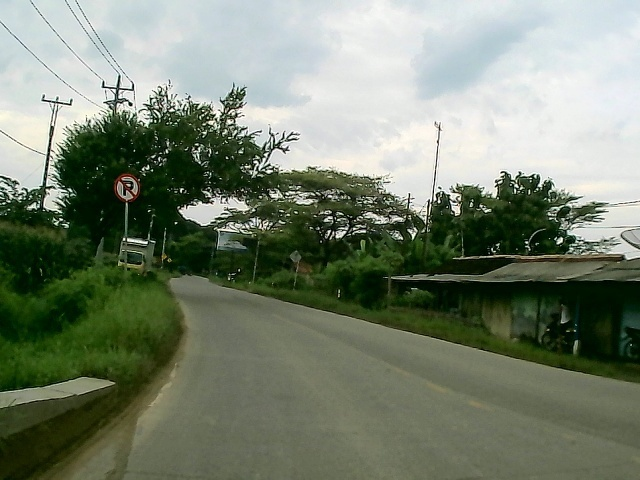Dilarang parkir: (111, 172, 144, 204)
